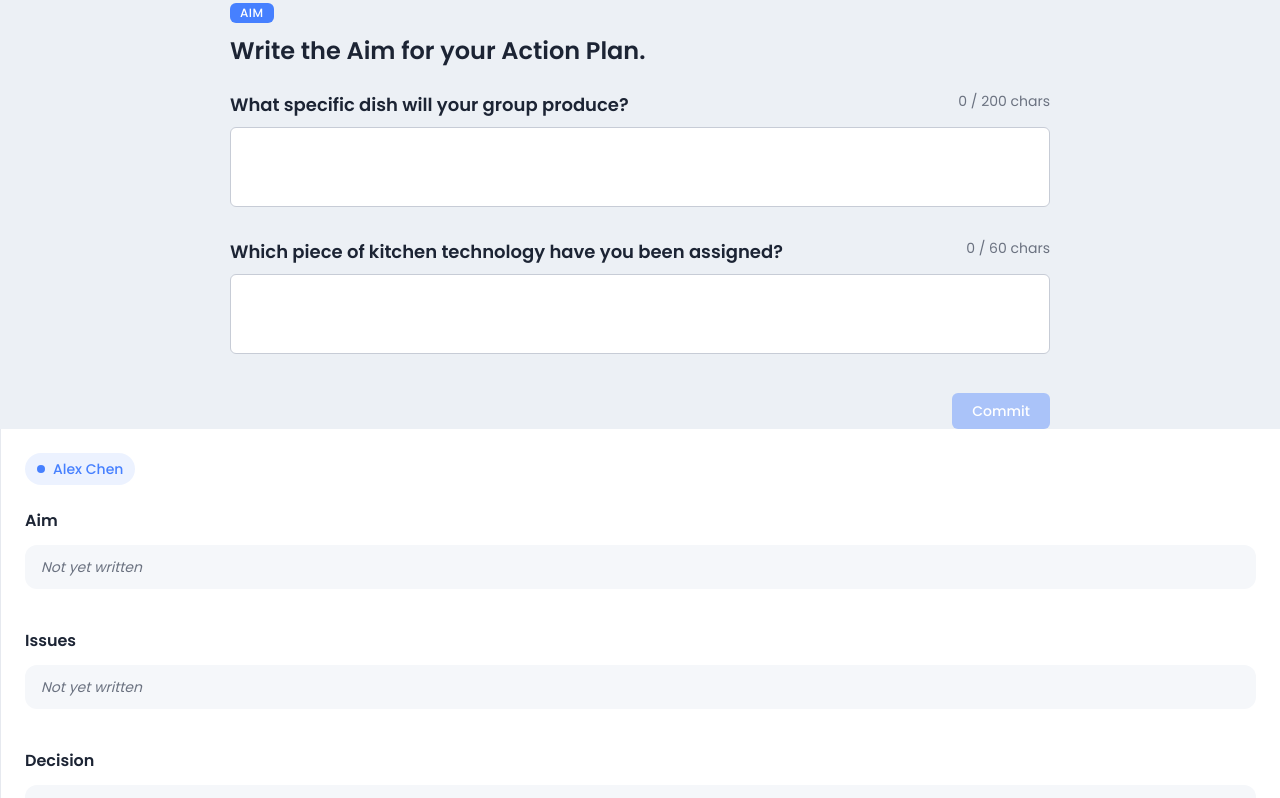
Test: SlideScaffold — edit flow › clicking Edit replaces the Edit button with Commit
The width and height of the screenshot is (1280, 798).
Type "vanilla custard French toast" into the text box labelled "What specific dish will your group produce?" at (640, 167), box 230,127 -> 1050,207
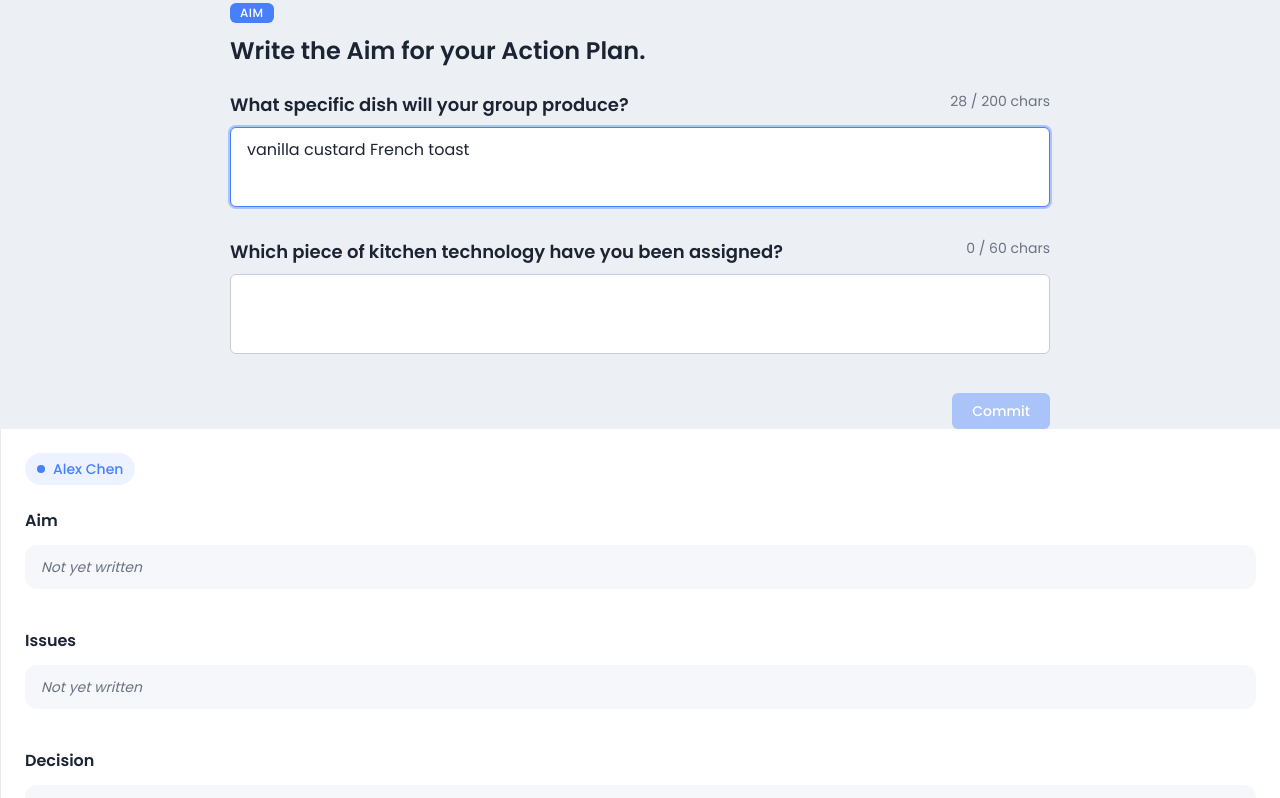
Type "Thermomix" into the text box labelled "Which piece of kitchen technology have you been assigned?" at (640, 314), box 230,274 -> 1050,354
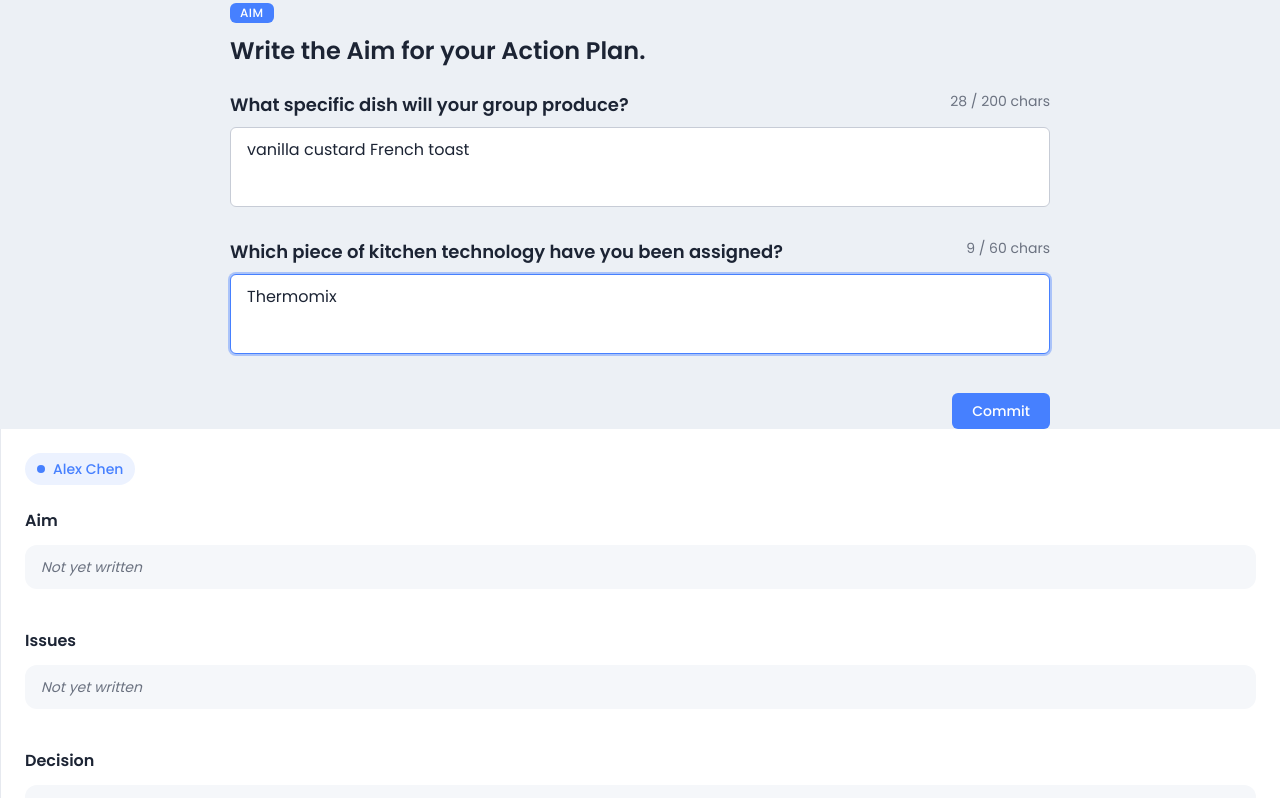
Click the button "Commit" at (1001, 411), box 952,393 -> 1050,429
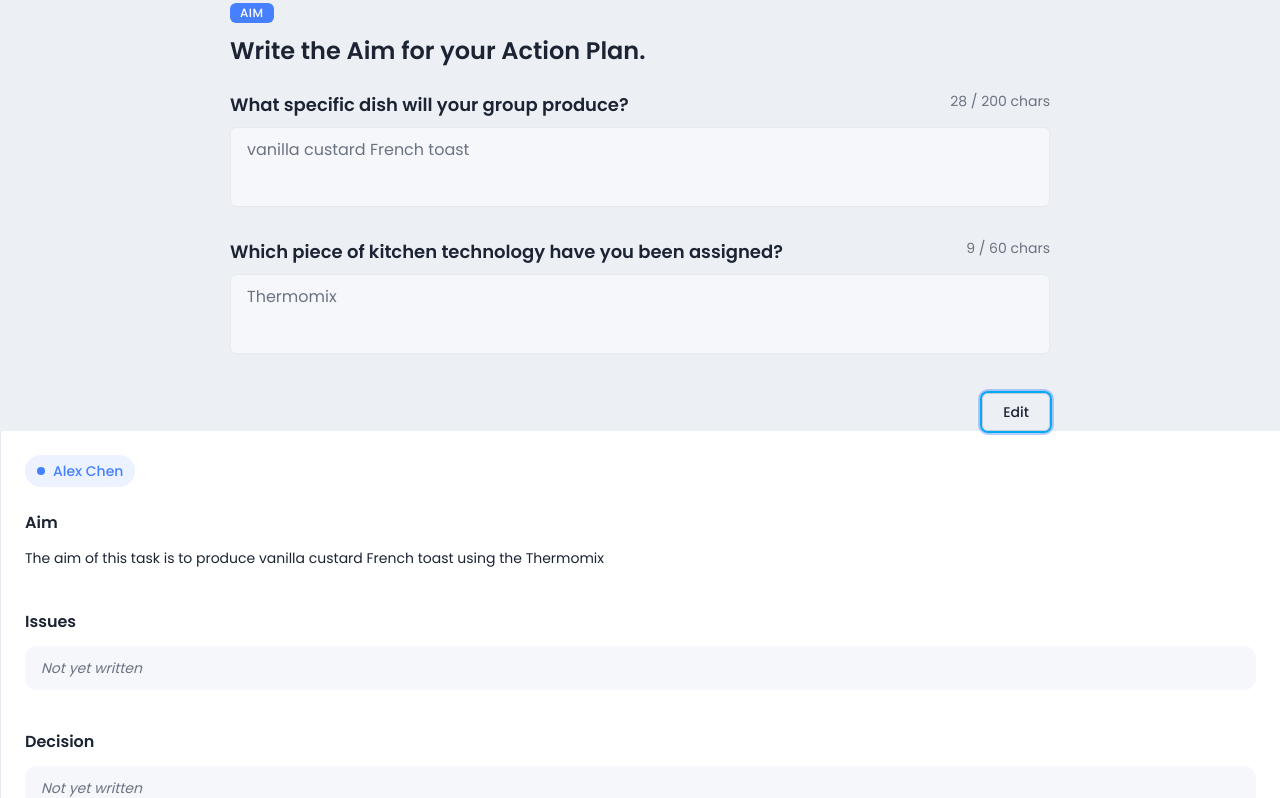
Click the button "Edit" at (1016, 412), box 982,393 -> 1050,431
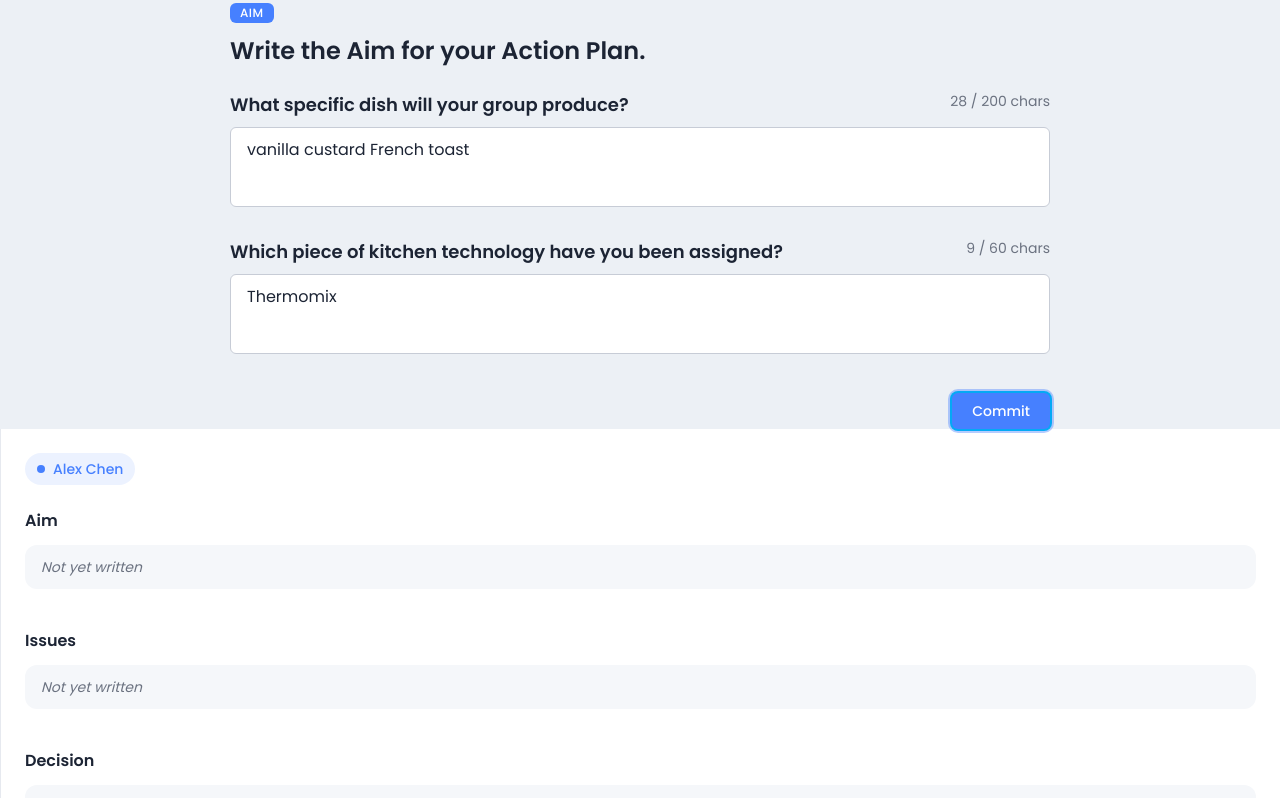
Expected: the button "Commit" is shown, 952,393 -> 1050,429
Expected: the button "Edit" is gone
